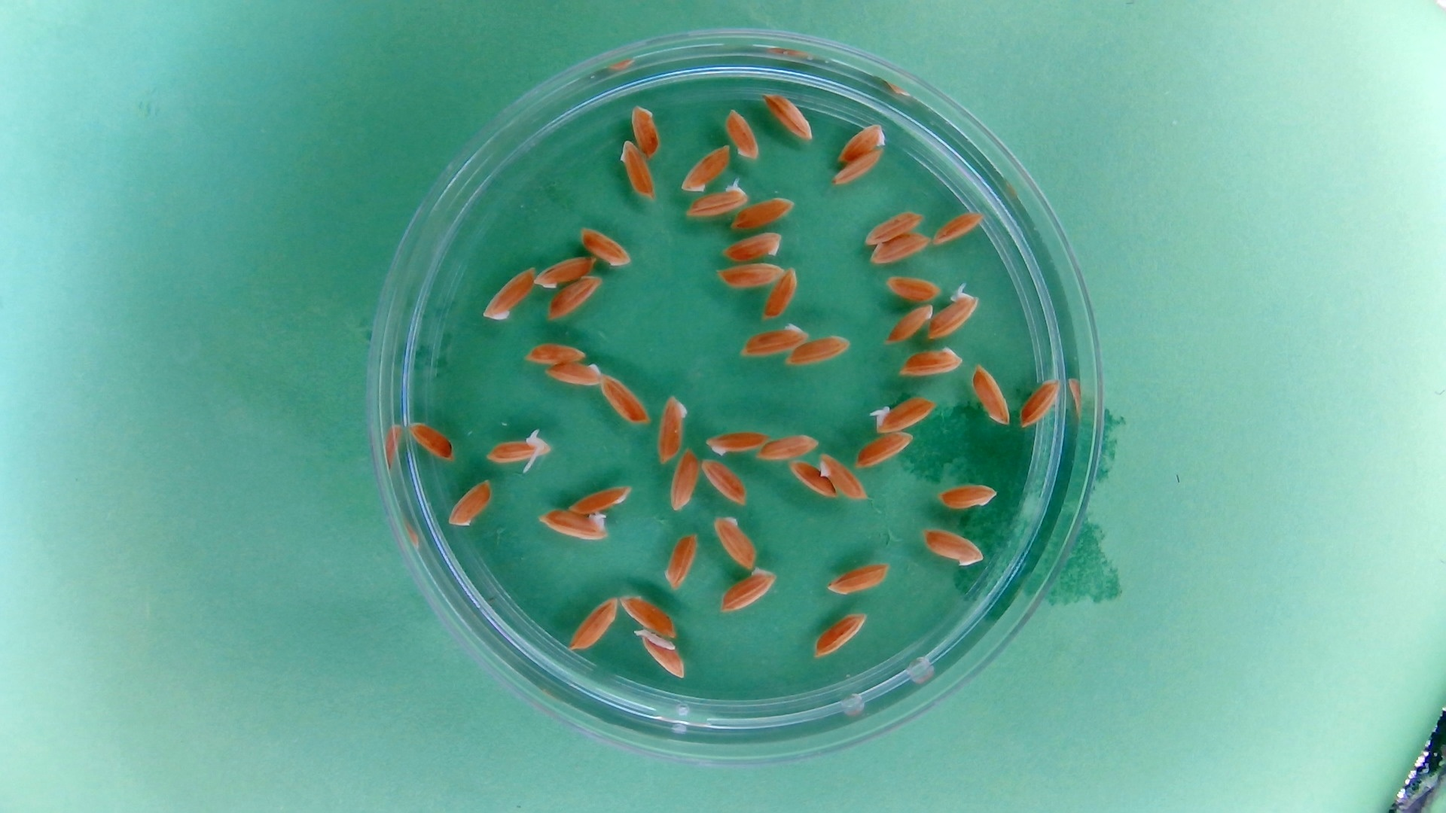no: (479, 263, 536, 324), (735, 319, 811, 362), (760, 89, 818, 145), (567, 594, 619, 653), (718, 566, 779, 616), (677, 140, 732, 195), (919, 524, 985, 569), (811, 610, 869, 661), (1016, 373, 1066, 432), (859, 206, 926, 250), (544, 275, 603, 324), (969, 361, 1012, 428), (598, 373, 651, 427), (818, 449, 870, 504), (709, 513, 758, 571), (618, 592, 679, 638), (782, 332, 854, 370), (577, 222, 635, 269), (537, 507, 610, 544), (729, 194, 798, 233), (880, 300, 935, 348), (618, 136, 658, 202), (929, 206, 987, 251), (699, 456, 749, 508), (758, 264, 802, 323), (718, 227, 786, 265), (895, 343, 966, 379), (445, 477, 494, 529), (825, 560, 892, 598), (832, 118, 887, 164), (829, 147, 889, 189), (866, 230, 934, 267), (853, 431, 916, 470), (654, 393, 688, 465), (713, 261, 786, 294), (754, 430, 822, 465), (722, 105, 762, 163), (405, 419, 456, 464), (786, 458, 838, 502), (932, 479, 999, 513), (667, 446, 701, 513), (881, 270, 944, 306), (628, 102, 666, 160), (704, 426, 772, 458), (664, 531, 700, 591), (569, 483, 634, 516), (520, 338, 589, 367), (544, 361, 603, 389), (537, 258, 593, 286)
yes: (926, 287, 981, 343), (868, 393, 938, 434), (633, 629, 688, 681), (684, 178, 751, 219), (486, 433, 550, 467)
